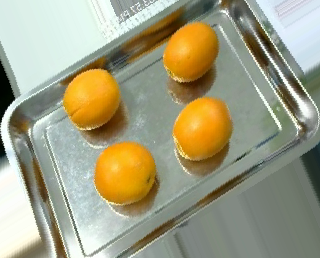Orange: (173, 95, 234, 162), (95, 142, 157, 205), (63, 68, 121, 131), (162, 20, 220, 82)
